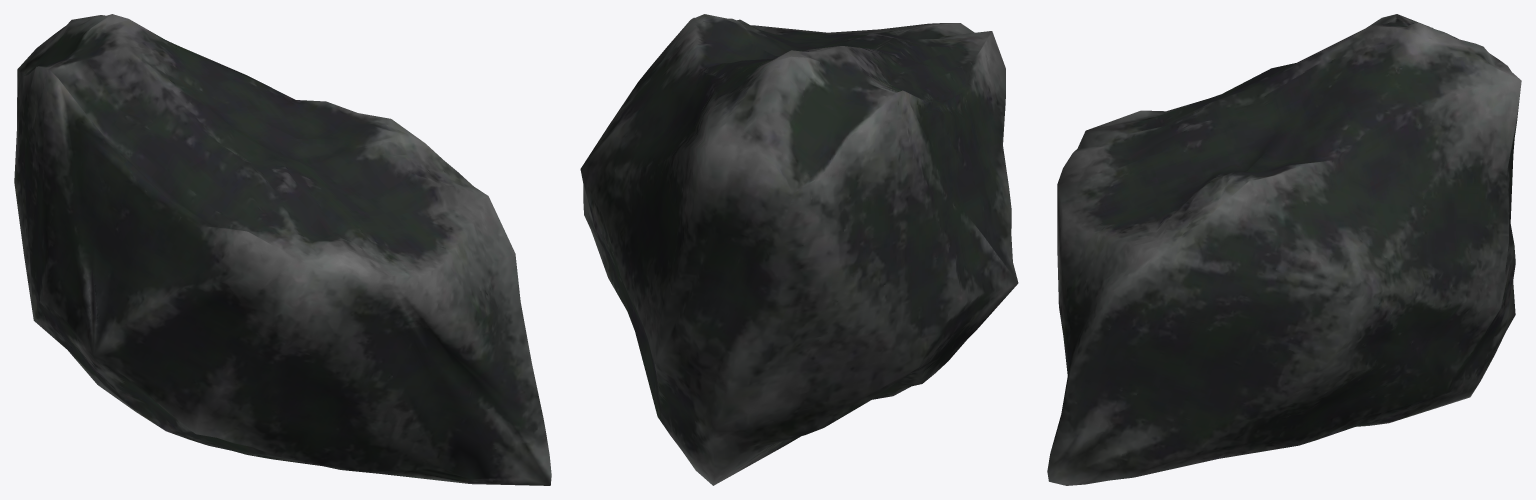
Rendered from rockDemo_03.glb.
3 views of the same model, side by side, from view 1: azimuth 30°, elevation 25°; view 2: azimuth 150°, elevation 25°; view 3: azimuth 270°, elevation 25° (orthographic). The views are drawn at different scales.
Parts seen in each view (by area): view 1: Rock_03; view 2: Rock_03; view 3: Rock_03.
Part boxes in pixels (x1,y1,x2,y2): Rock_03: (14,14,551,485); Rock_03: (580,14,1018,485); Rock_03: (1047,14,1521,485).
Bounding box in the file's own units: 0.4147 × 0.4309 × 0.5153.
Materials: 1 (1 with a texture image).
